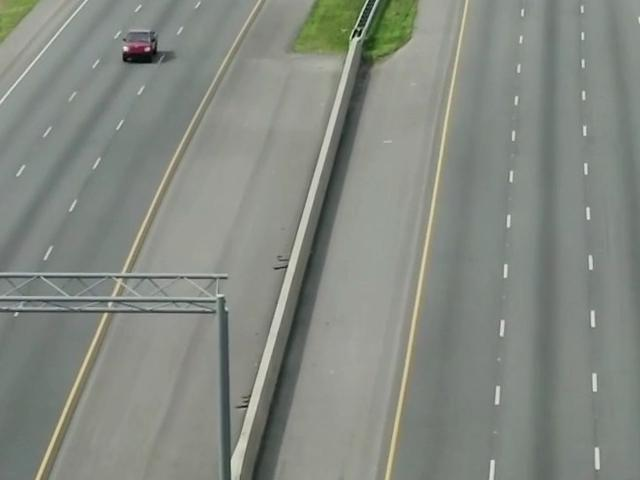car: (116, 26, 164, 66)
